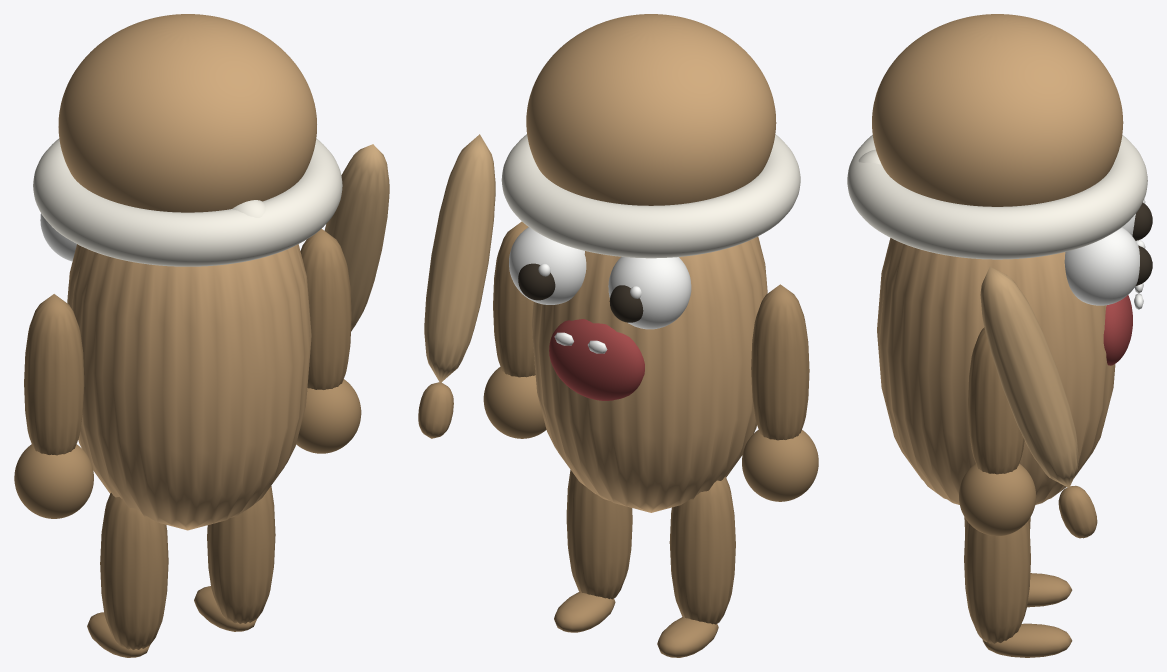
The model's file is sahur.glb.
3 views of the same model, side by side, from view 1: azimuth 30°, elevation 25°; view 2: azimuth 150°, elevation 25°; view 3: azimuth 270°, elevation 25° (orthographic). The views are drawn at different scales.
Parts seen in each view (by area): view 1: Cylinder, Torus, ArmL, ArmR, LegL, LegR, Bat, Sphere.001; view 2: Cylinder, Torus, Bat, ArmL, LegL, LegR, ArmR, Sphere.007, Sphere.001, Sphere.004, Sphere.005, Sphere.002; view 3: Cylinder, Torus, Bat, ArmR, LegR, Sphere.004, Sphere.007, LegL, Sphere.002.
Part boxes in pixels (x1,y1,x2,y2): Cylinder: (58,14,316,530); Torus: (33,138,342,266); ArmL: (14,294,93,518); ArmR: (296,228,361,453); LegL: (87,493,168,657); LegR: (194,486,275,631); Bat: (324,144,389,331); Sphere.001: (40,213,76,261); Cylinder: (526,14,776,512); Torus: (501,134,800,258); Bat: (418,134,495,438); ArmL: (742,284,818,501); LegL: (657,476,735,657); LegR: (554,470,632,632); ArmR: (483,221,546,438); Sphere.007: (549,319,644,400); Sphere.001: (608,257,691,329); Sphere.004: (509,227,586,304); Sphere.005: (518,263,555,300); Sphere.002: (609,285,643,322); Cylinder: (872,14,1123,504); Torus: (847,135,1147,259); Bat: (980,266,1097,538); ArmR: (959,327,1036,536); LegR: (964,520,1072,657); Sphere.004: (1064,227,1139,305); Sphere.007: (1103,295,1132,365); LegL: (964,517,1072,607); Sphere.002: (1132,202,1152,240).
Size of the model in its own units: 1.97 by 3.1 by 1.43.
